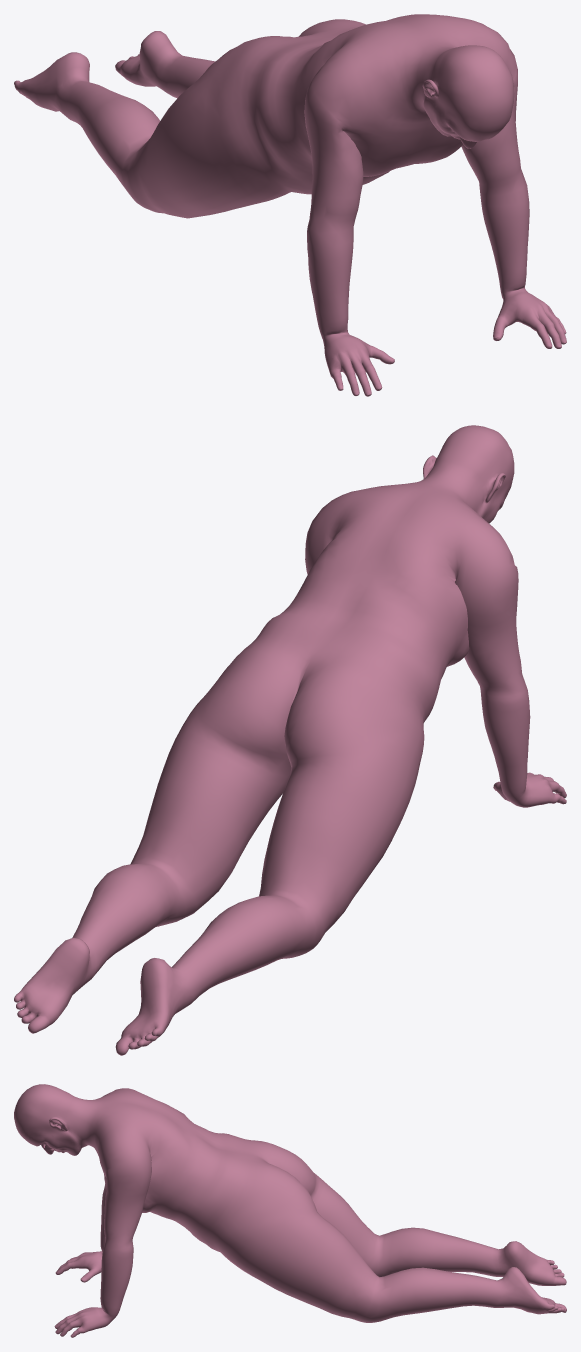
Rendered from pos5.glb.
The picture shows the model from 3 angles, top to bottom: view 1: azimuth 30°, elevation 25°; view 2: azimuth 150°, elevation 25°; view 3: azimuth 270°, elevation 25°; orthographic projection. The views are drawn at different scales.
Parts seen in each view (by area): view 1: f_mana; view 2: f_mana; view 3: f_mana.
Boxes of the visible parts, x1=… form: f_mana: x1=14, y1=14, x2=566, y2=396; f_mana: x1=14, y1=425, x2=566, y2=1055; f_mana: x1=14, y1=1084, x2=566, y2=1337.
Size of the model in its own units: 54.61 by 76.31 by 176.
